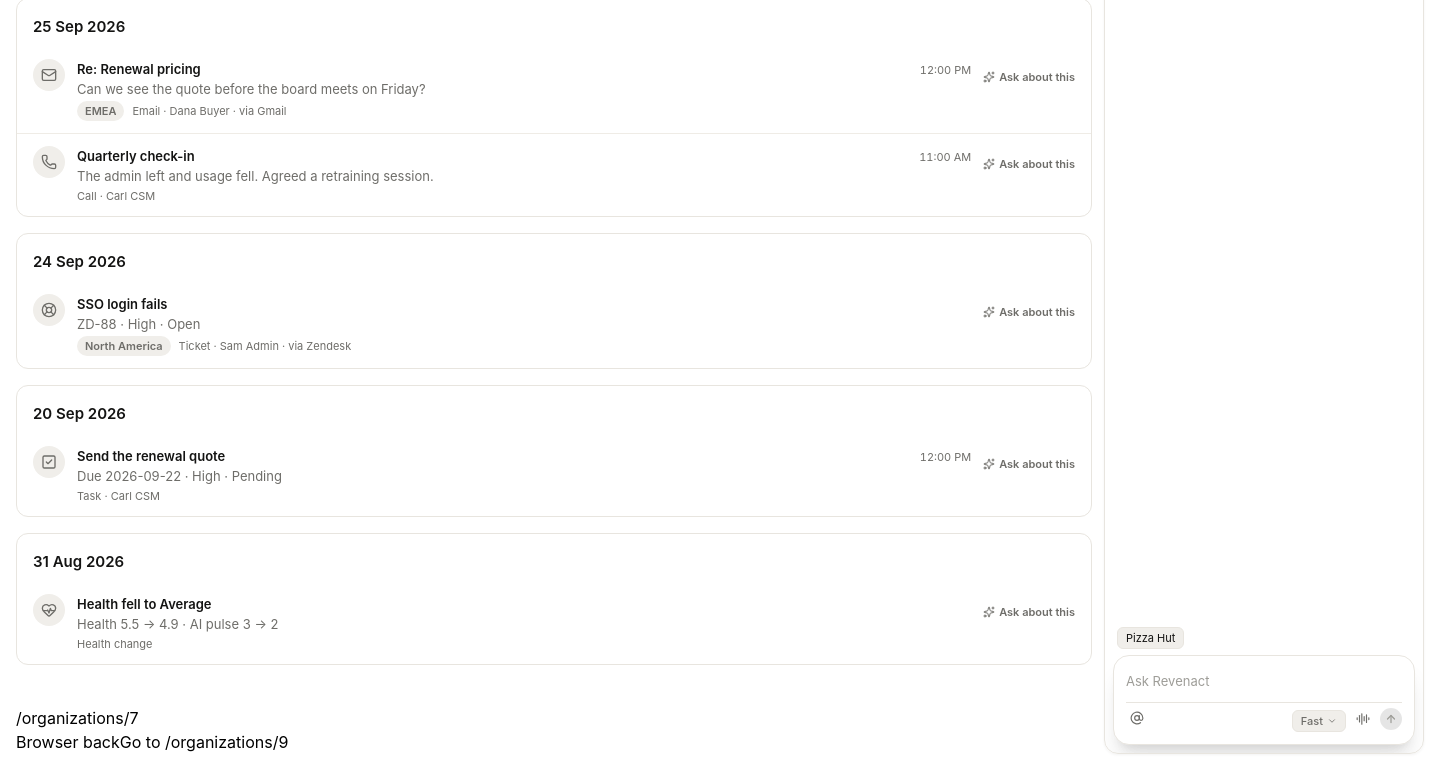
it: Ask Revenact on the organisation page › clears a refusal once the person moves to another organisation, even in the same conversation
(page scrolled)
In the field with placeholder "Ask Revenact": [1264, 682] box [1126,670,1402,694], type "What changed?"
Then press Enter
Click the link "Go to /organizations/9": [142, 742] box [120,732,288,752]
(page scrolled)
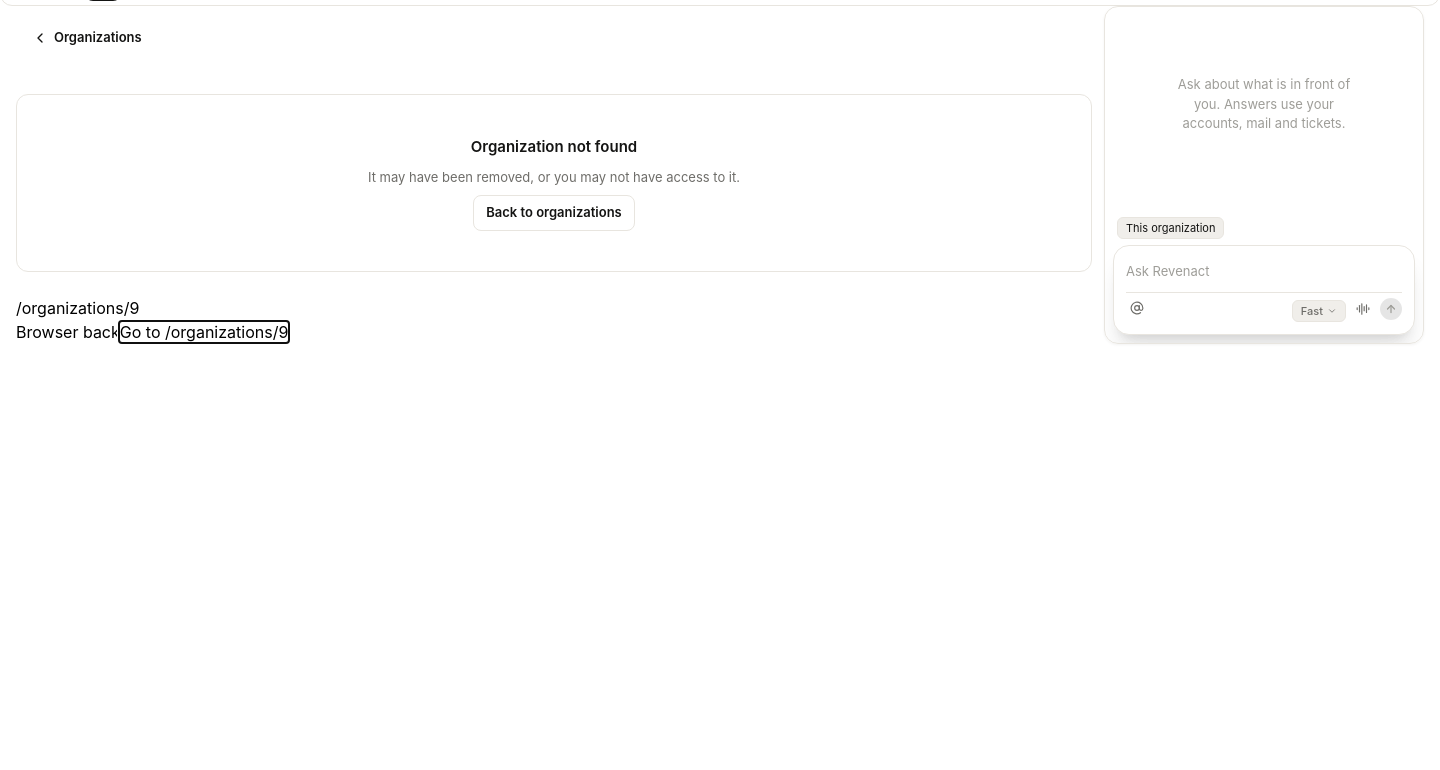
Expected: the text "Organization not found" is shown, [471,135,637,159]
